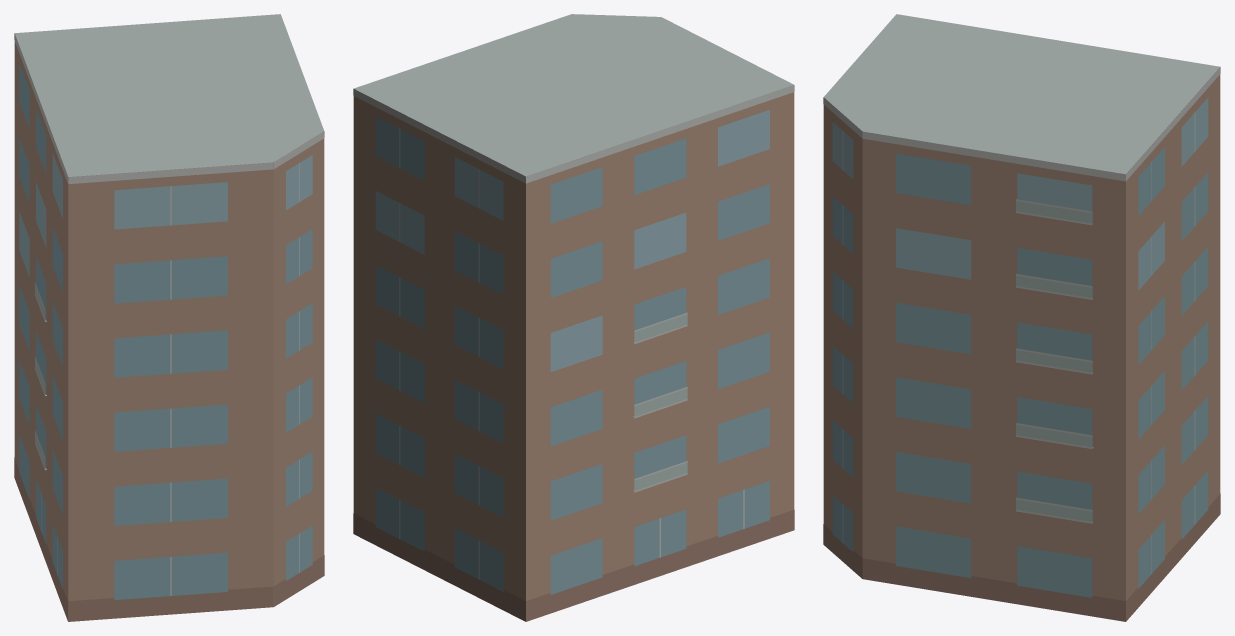
Rendered from survey-upis-32974474.glb.
3 renders of one model, left to right at view 1: azimuth 30°, elevation 25°; view 2: azimuth 150°, elevation 25°; view 3: azimuth 270°, elevation 25°, orthographic.
Parts seen in each view (by area): view 1: survey-upis-32974474.tmp; view 2: survey-upis-32974474.tmp; view 3: survey-upis-32974474.tmp.
Boxes of the visible parts, x1,y1,x2,y2 form: survey-upis-32974474.tmp: (14, 14, 324, 621); survey-upis-32974474.tmp: (353, 14, 794, 621); survey-upis-32974474.tmp: (823, 14, 1220, 621).
Size of the model in its own units: 11.76 by 15.3 by 12.3.
